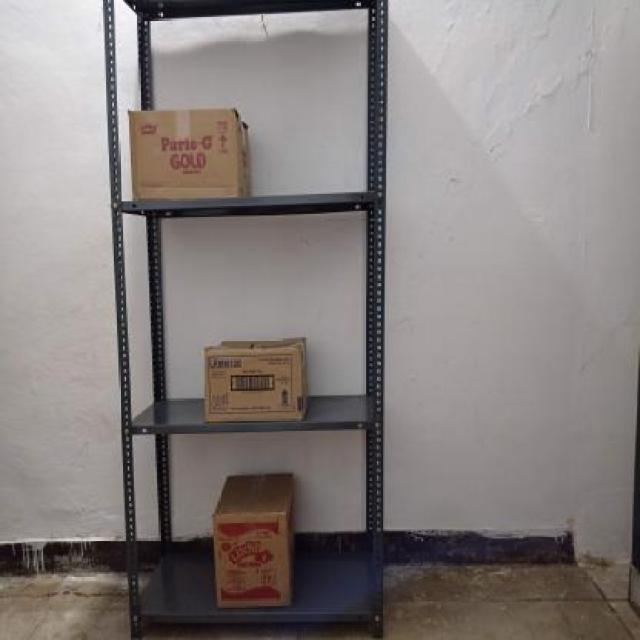box: (129, 106, 238, 203), (202, 344, 302, 424), (216, 510, 287, 610)
